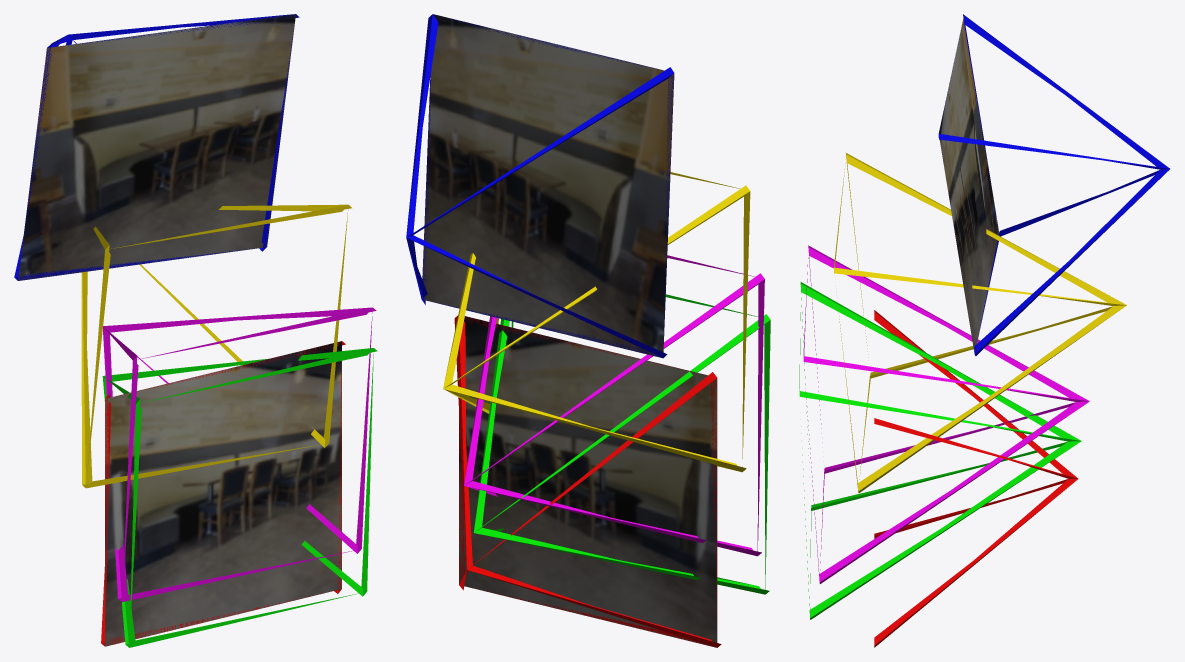
The picture shows the model from 3 angles, left to right: view 1: azimuth 30°, elevation 25°; view 2: azimuth 150°, elevation 25°; view 3: azimuth 270°, elevation 25°; orthographic projection. The views are drawn at different scales.
Visible parts, largest first — view 1: geometry_3, geometry_1, geometry_6, geometry_7, geometry_5, geometry_4, geometry_2; view 2: geometry_3, geometry_1, geometry_4, geometry_2, geometry_5, geometry_6, geometry_7; view 3: geometry_3, geometry_7, geometry_6, geometry_5, geometry_4, geometry_2.
Part boxes in pixels (x1,y1,x2,y2): geometry_3: (18,14,295,280); geometry_1: (105,341,341,646); geometry_6: (103,307,376,601); geometry_7: (81,204,351,488); geometry_5: (102,348,377,647); geometry_4: (14,14,299,280); geometry_2: (101,341,345,646); geometry_3: (422,14,674,357); geometry_1: (459,316,717,647); geometry_4: (406,14,674,358); geometry_2: (454,315,721,647); geometry_5: (473,294,770,594); geometry_6: (464,255,764,556); geometry_7: (443,172,750,472); geometry_3: (938,16,999,353); geometry_7: (833,153,1126,492); geometry_6: (803,245,1089,583); geometry_5: (799,282,1081,619); geometry_4: (938,14,1169,355); geometry_2: (874,310,1078,647).
Size of the model in its own units: 0.4505 by 0.9278 by 0.5916.
Materials: 2 (2 with a texture image).
